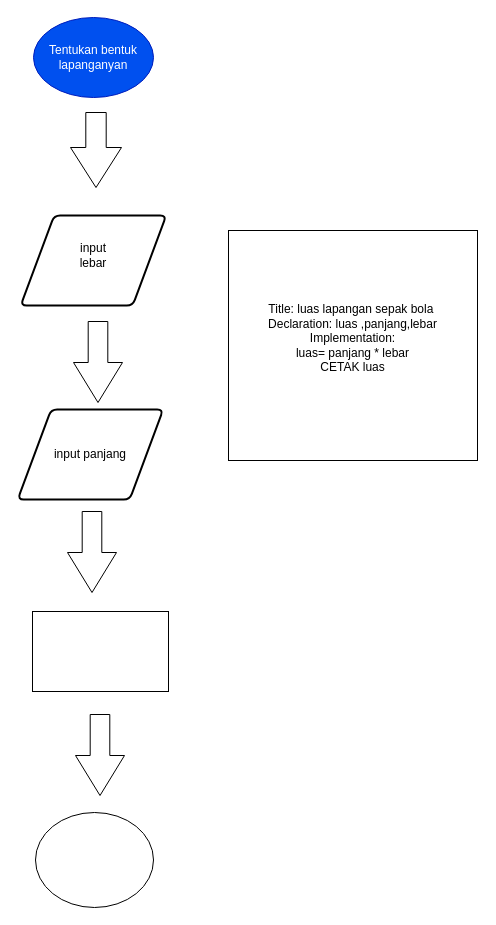
This 496x925 diagram has some shape labels left out. Here are the shapes that lost their labels. From the top down, the box of each, then its label:
(32, 610, 168, 692): hitung panjang dan lebar
(34, 812, 154, 908): selesai
